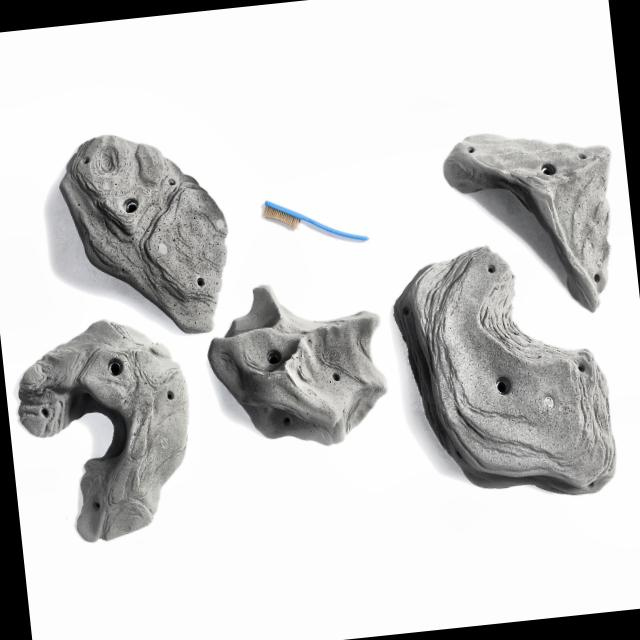Hold: (390, 238, 624, 508), (11, 314, 203, 540), (437, 119, 621, 329), (201, 268, 396, 464), (56, 129, 234, 341)
